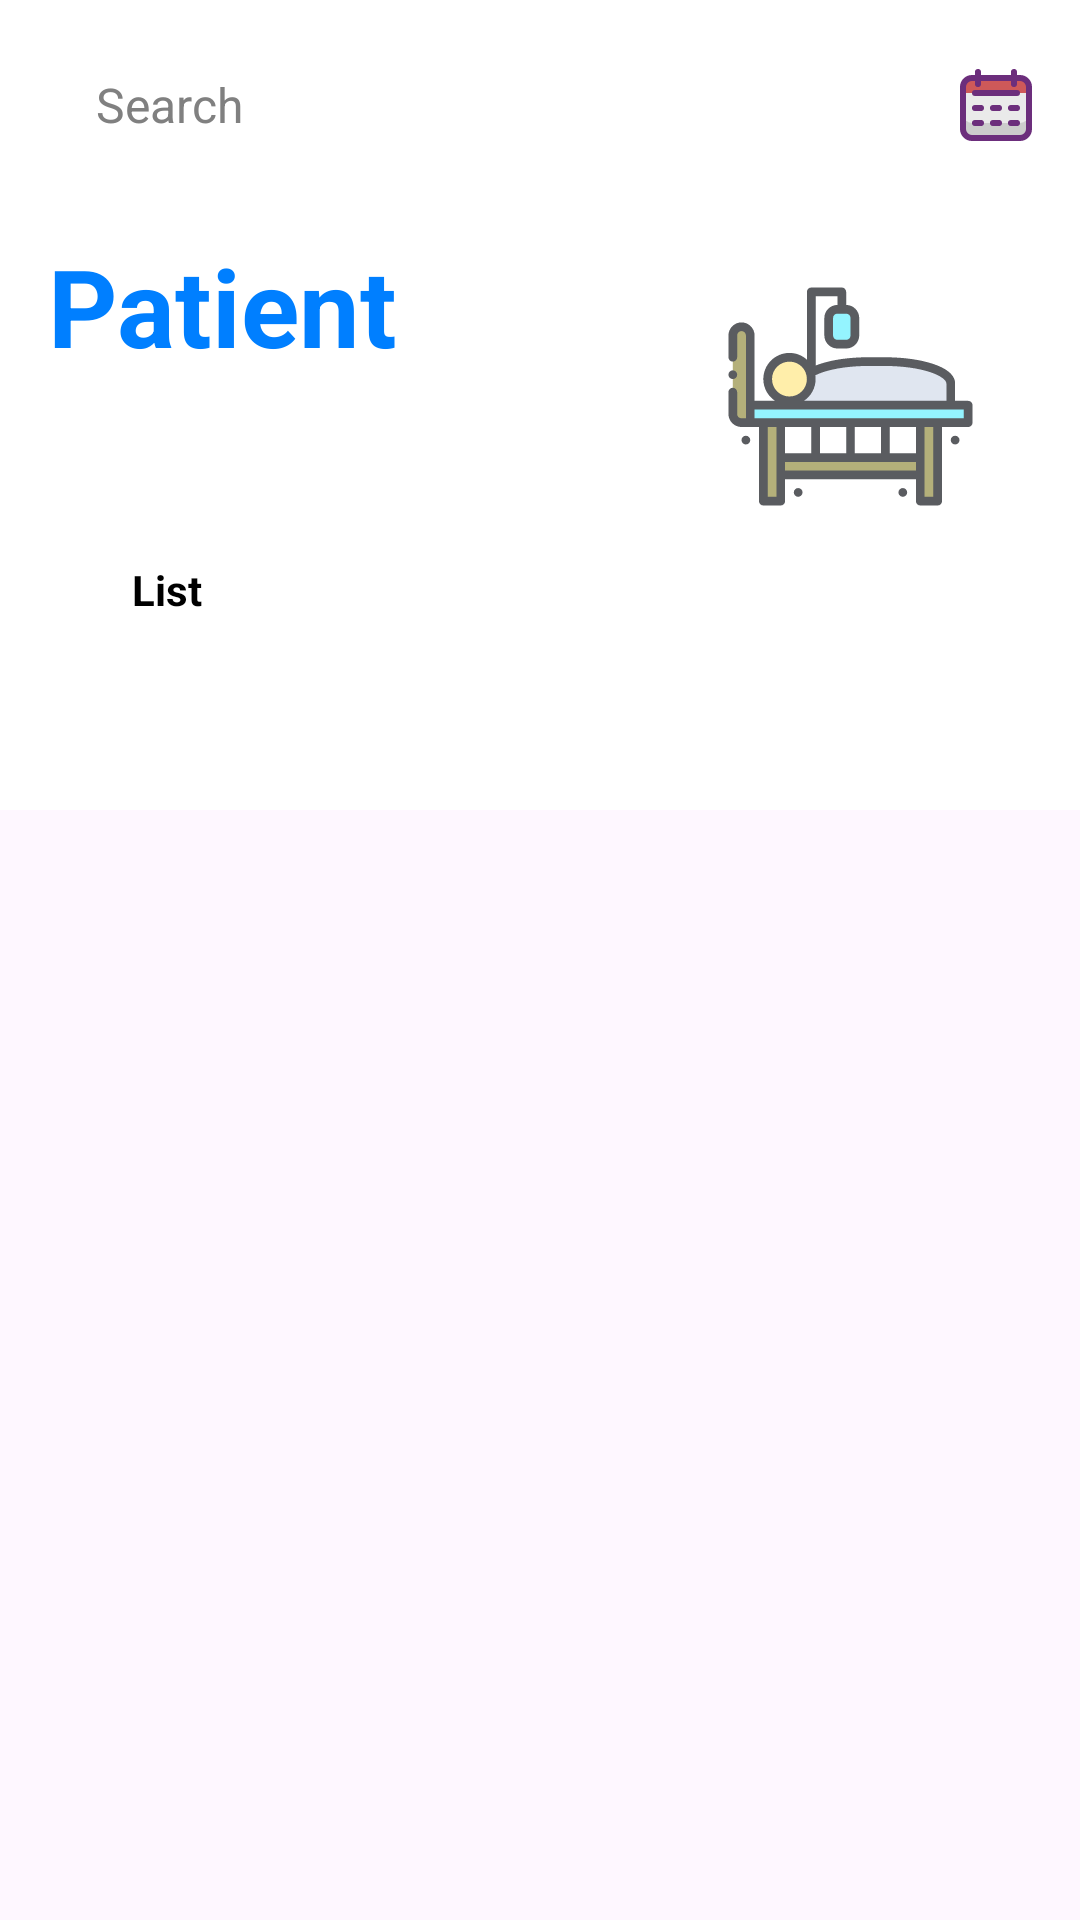

Named icons in this screenshot (1080×1920) and their bounding boxes, BBox(x1, y1, x2, y2):
calendar schedule date month: BBox(960, 69, 1032, 141)
